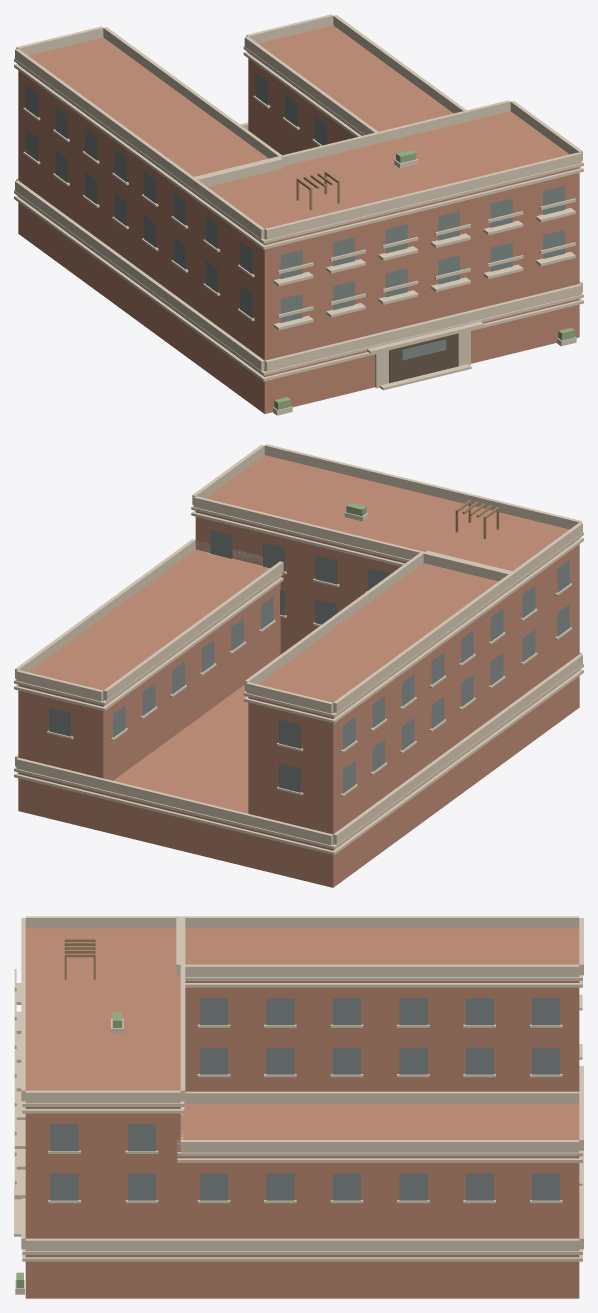
Rendered from residential_3x4_court.glb.
The picture shows the model from 3 angles, top to bottom: view 1: azimuth 30°, elevation 25°; view 2: azimuth 150°, elevation 25°; view 3: azimuth 270°, elevation 25°; orthographic projection. The views are drawn at different scales.
Parts seen in each view (by area): view 1: residential_3x4_court_0; view 2: residential_3x4_court_0; view 3: residential_3x4_court_0.
Boxes of the visible parts, x1,y1,x2,y2 form: residential_3x4_court_0: [14, 14, 583, 415]; residential_3x4_court_0: [14, 444, 583, 887]; residential_3x4_court_0: [14, 916, 583, 1298].
Bounding box in the file's own units: 23 × 13.5 × 31.4.
